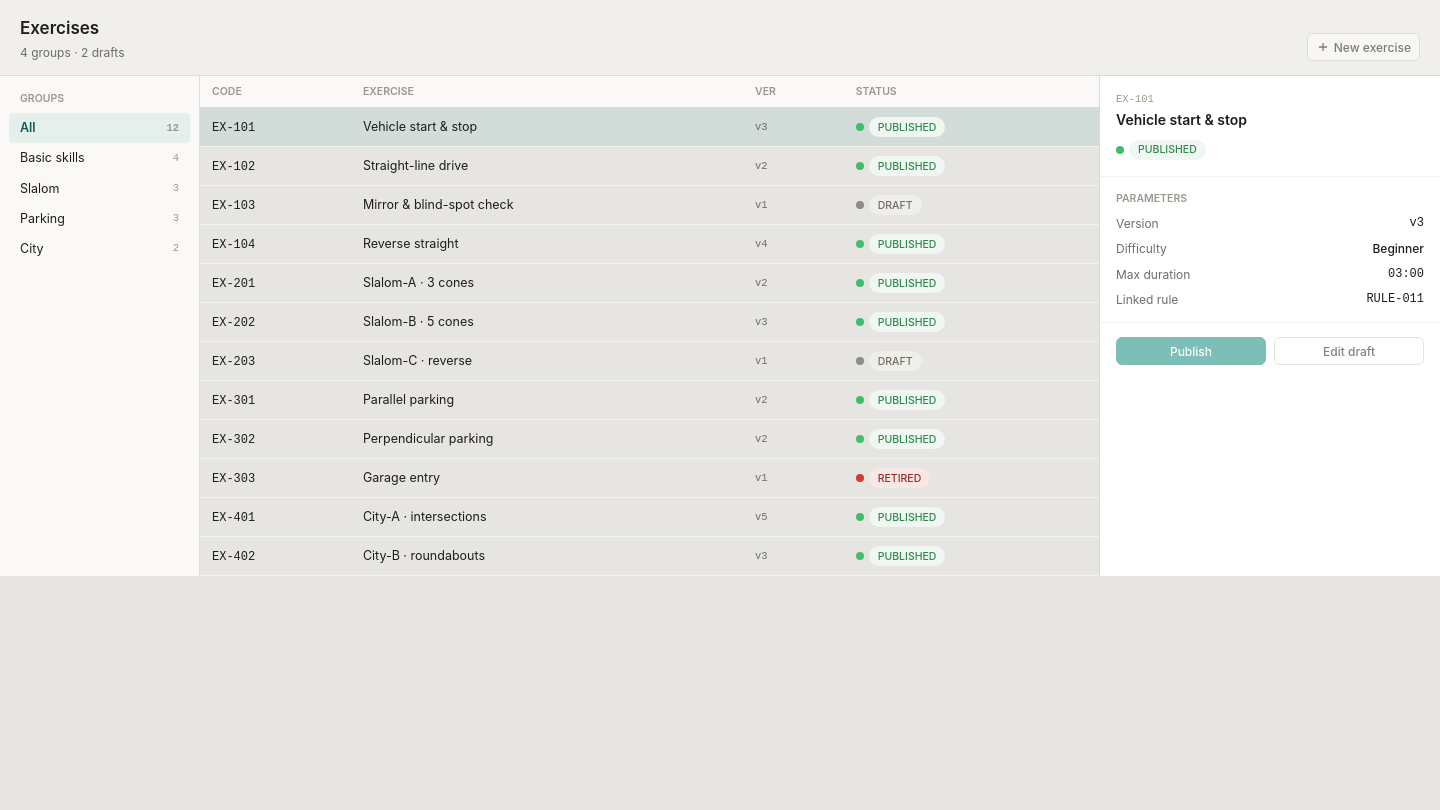
Scenario: ExercisesScreen › opens detail with parameters and disabled publish/edit
Click the button "EX-302": (234, 440) [212,432,255,449]
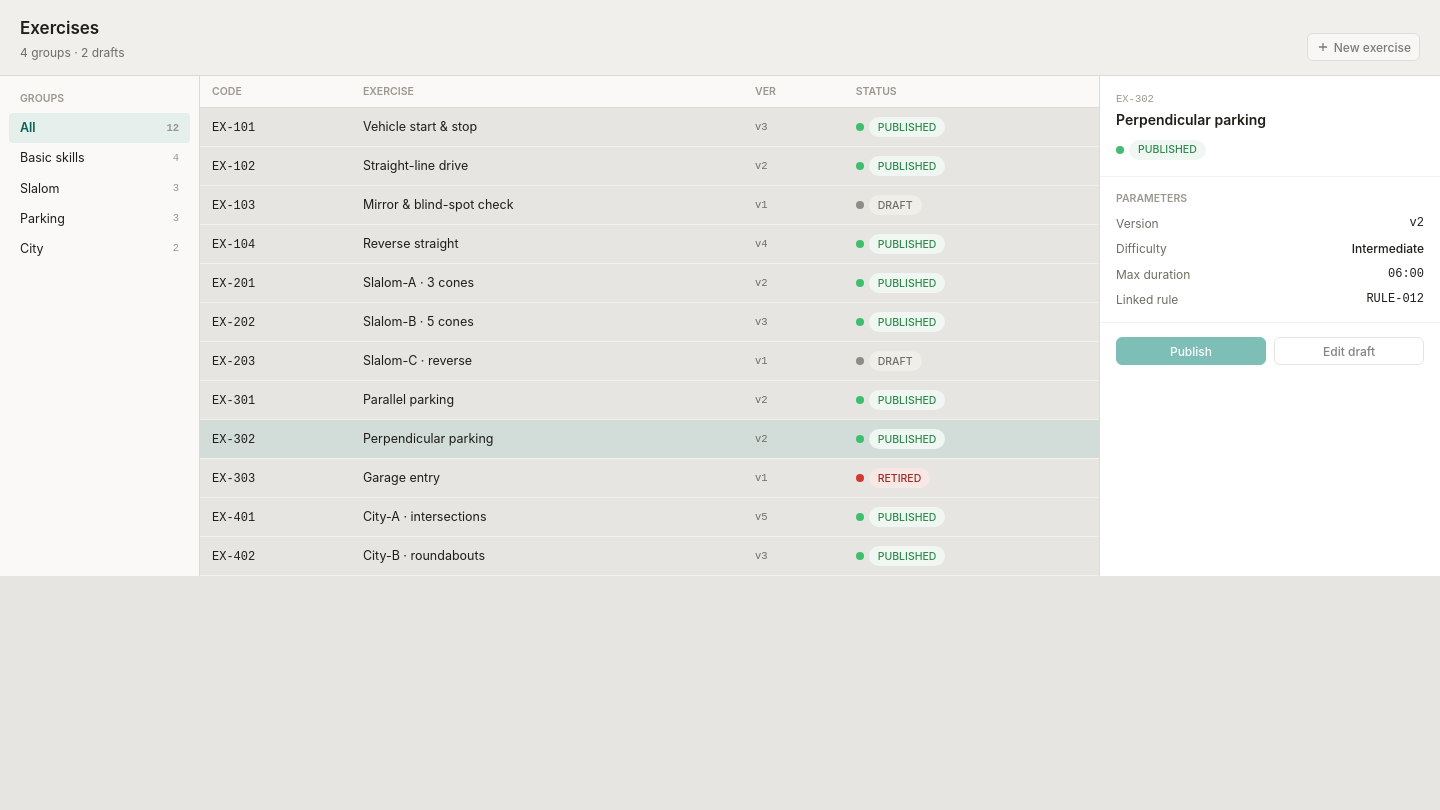
Check: the text "Parameters" is shown, box [1116,192,1187,204]
Check: the text "Perpendicular parking" is shown, box [1116,111,1266,128]
